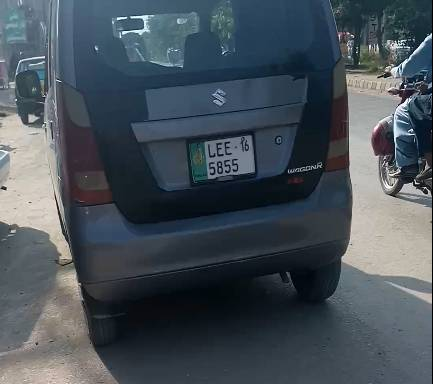number_plate: (189, 135, 265, 178)
